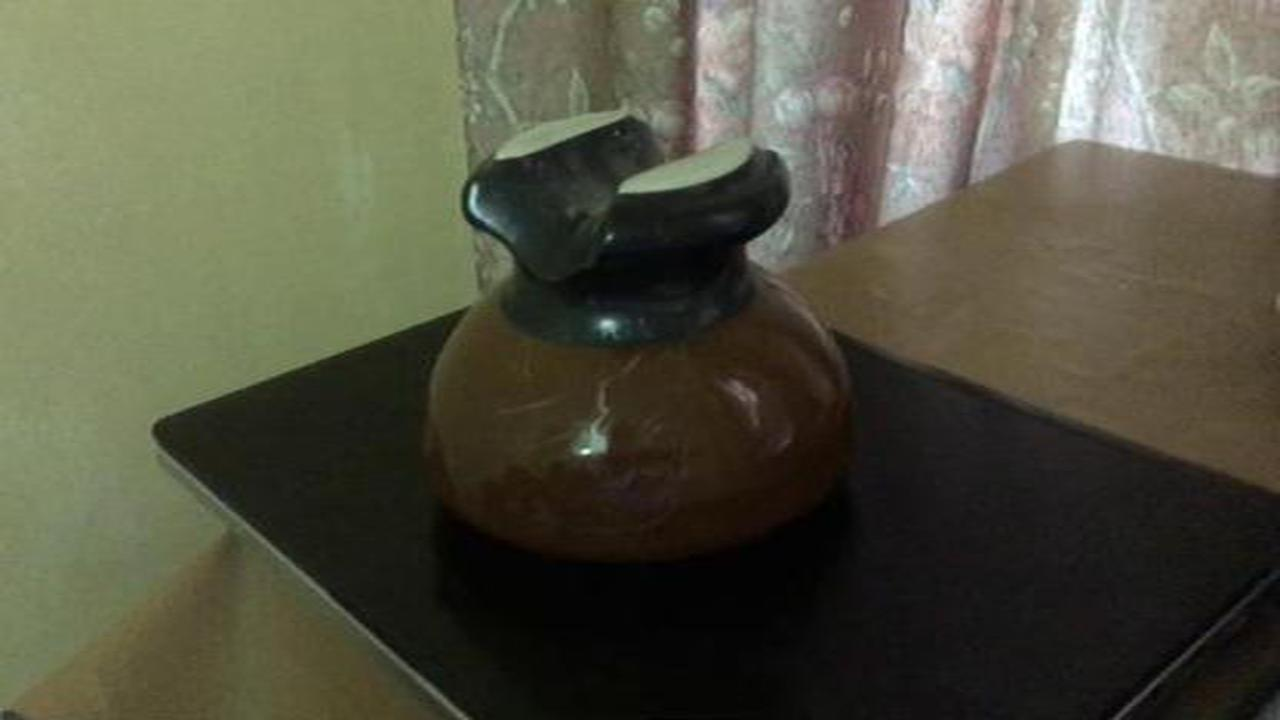insulator_pin: (400, 96, 884, 589)
